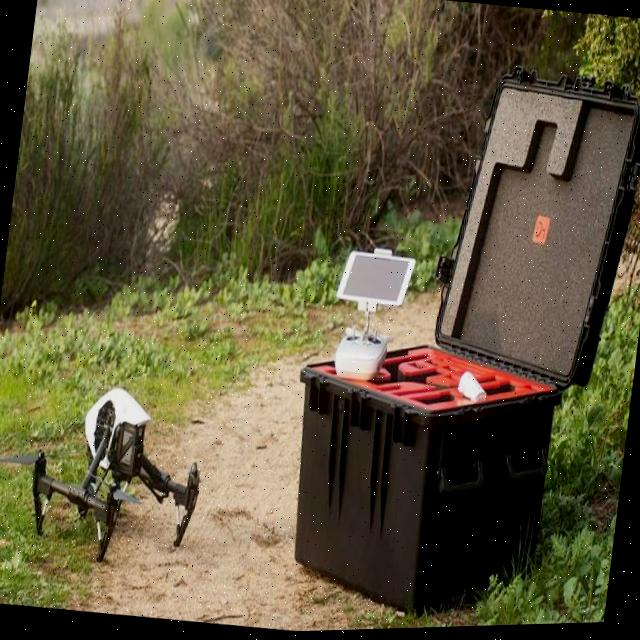drone: (0, 378, 215, 569)
